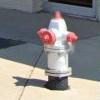a fire hydrant: (37, 13, 76, 83)
